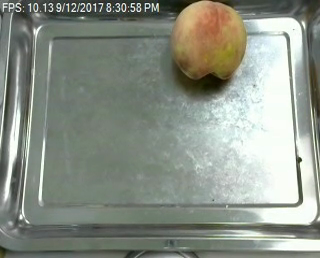Peach: (171, 1, 248, 82)
